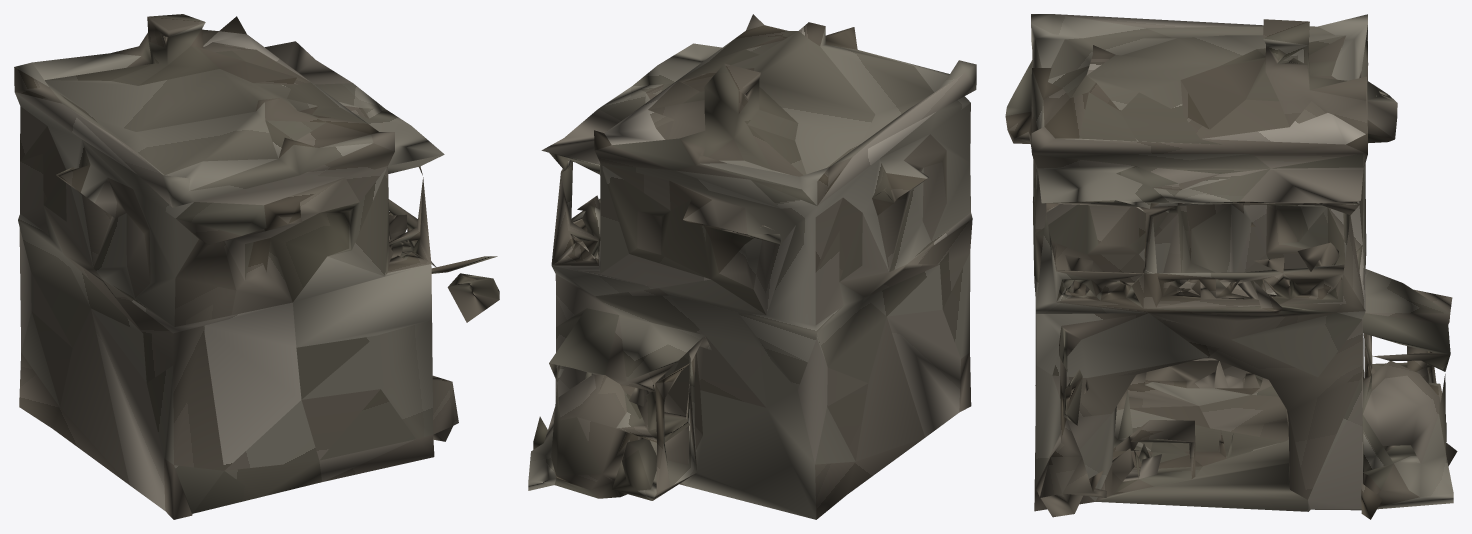
File: house_craftsman_2_lo.glb
3 views of the same model, side by side, from view 1: azimuth 30°, elevation 25°; view 2: azimuth 150°, elevation 25°; view 3: azimuth 270°, elevation 25° (orthographic). The views are drawn at different scales.
Parts seen in each view (by area): view 1: house_craftsman_2; view 2: house_craftsman_2; view 3: house_craftsman_2.
Boxes of the visible parts, x1,y1,x2,y2 form: house_craftsman_2: (14, 14, 499, 519); house_craftsman_2: (528, 14, 976, 519); house_craftsman_2: (1005, 14, 1457, 519).
Bounding box in the file's own units: 0.9581 × 0.9685 × 0.9658.
Materials: 1 (1 with a texture image).
